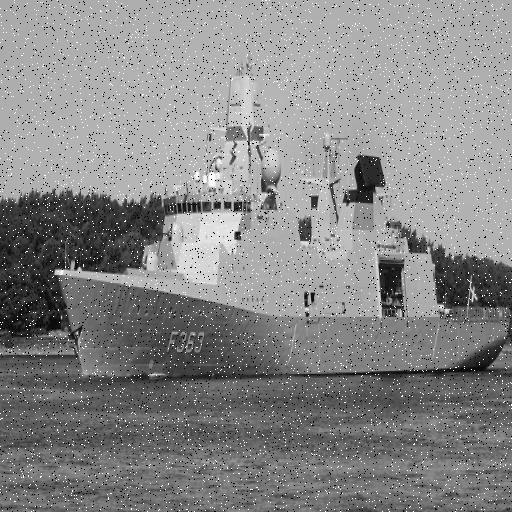Fragata: (45, 55, 512, 389)
